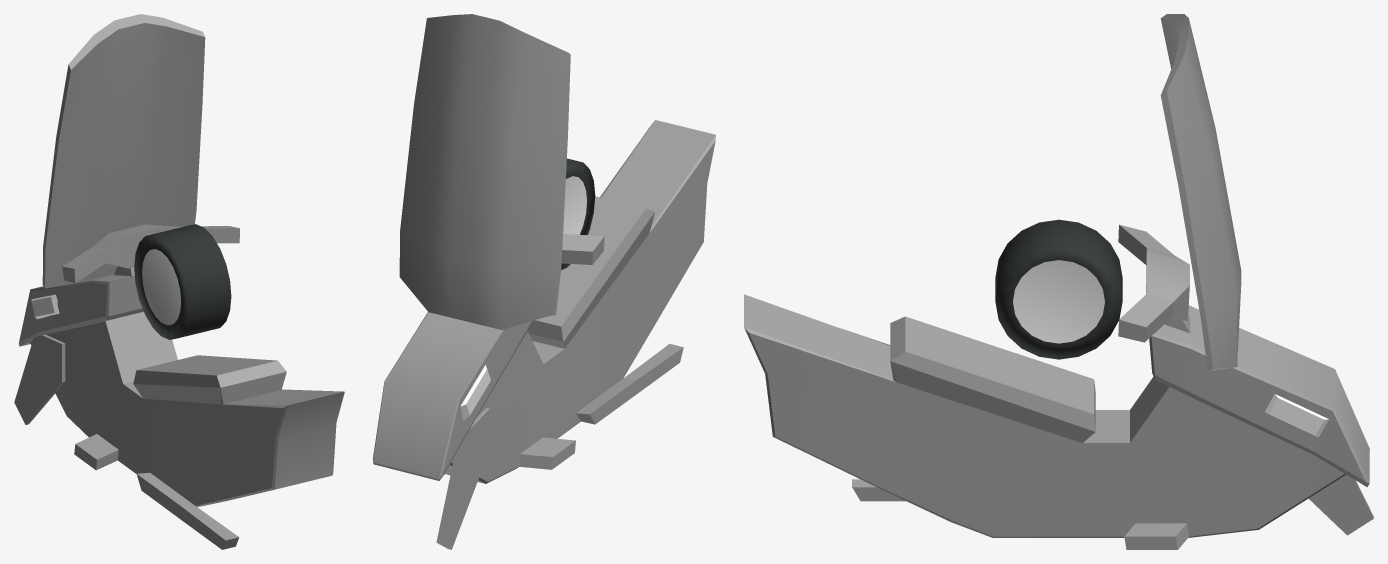
The model's file is motorcycle 1.fbx.
3 views of the same model, side by side, from view 1: azimuth 30°, elevation 25°; view 2: azimuth 150°, elevation 25°; view 3: azimuth 270°, elevation 25° (orthographic). The views are drawn at different scales.
Parts seen in each view (by area): view 1: motorcycle_1, motorcycle_1_wheel; view 2: motorcycle_1, motorcycle_1_wheel; view 3: motorcycle_1, motorcycle_1_wheel.
Boxes of the visible parts, x1,y1,x2,y2 form: motorcycle_1: (14,14,344,549); motorcycle_1_wheel: (134,224,231,339); motorcycle_1: (373,14,715,549); motorcycle_1_wheel: (561,158,595,270); motorcycle_1: (744,14,1373,549); motorcycle_1_wheel: (995,219,1122,359).
Bounding box in the file's own units: 47.18 × 121 × 131.
